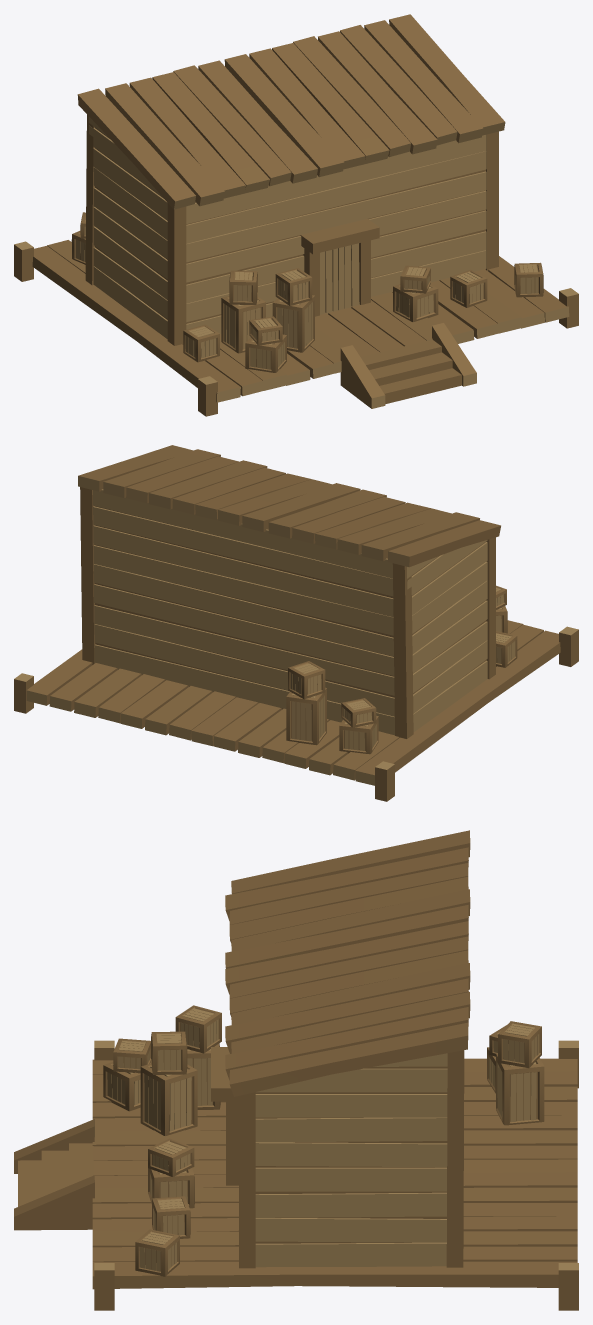
The model's file is Storage_FirstAge_Level2.glb.
The picture shows the model from 3 angles, top to bottom: view 1: azimuth 30°, elevation 25°; view 2: azimuth 150°, elevation 25°; view 3: azimuth 270°, elevation 25°; orthographic projection. The views are drawn at different scales.
Visible parts, largest first — view 1: Storage_FirstAge_Level2; view 2: Storage_FirstAge_Level2; view 3: Storage_FirstAge_Level2.
Boxes of the visible parts, x1,y1,x2,y2 form: Storage_FirstAge_Level2: [14, 14, 578, 416]; Storage_FirstAge_Level2: [14, 445, 578, 801]; Storage_FirstAge_Level2: [14, 830, 578, 1310].
Bounding box in the file's own units: 1.41 × 0.7613 × 1.47.
